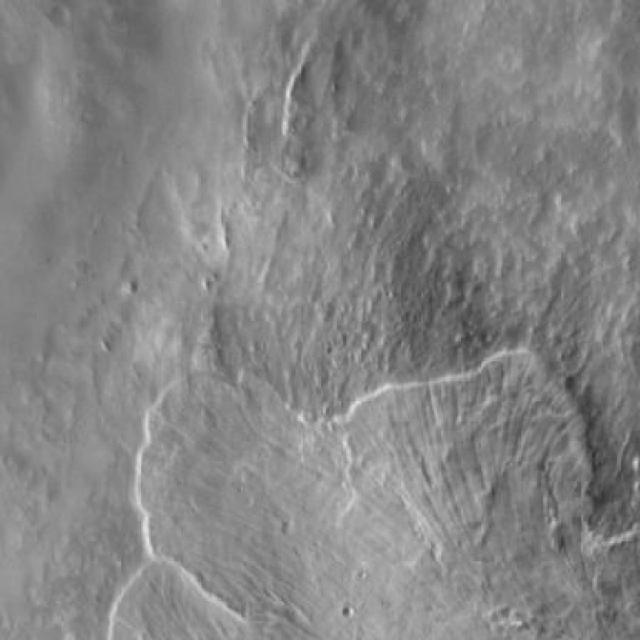crater: (58, 10, 76, 28)
